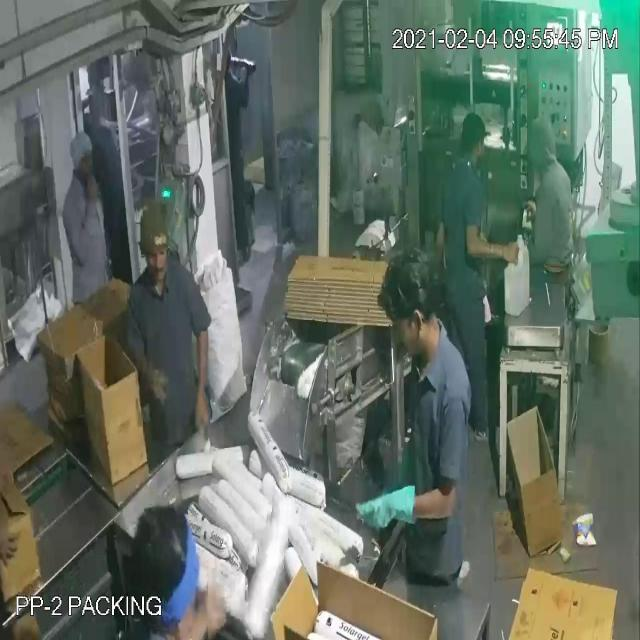No_Gloves: (30, 42, 495, 516)
